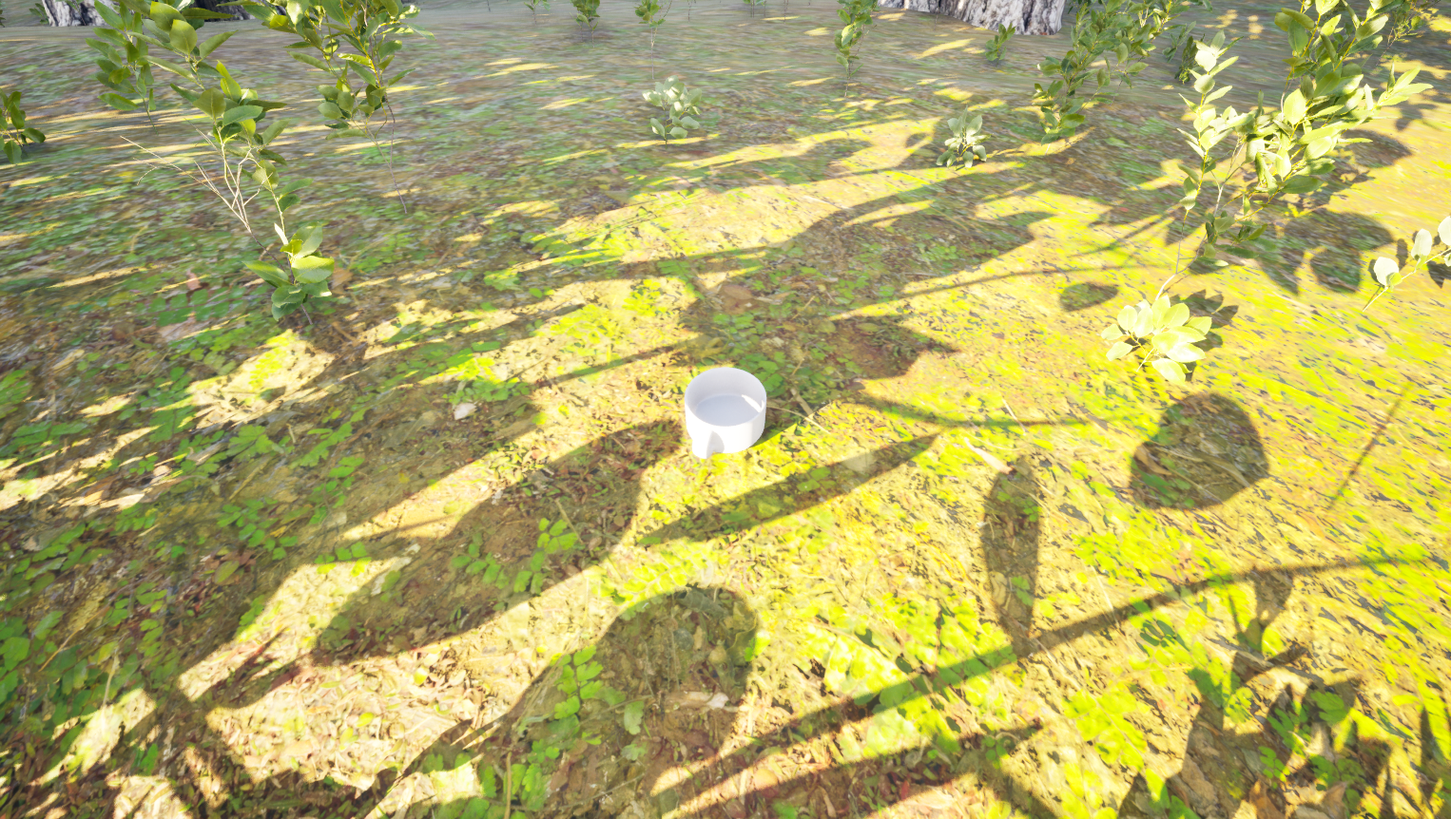Teacup: (659, 357, 783, 472)
